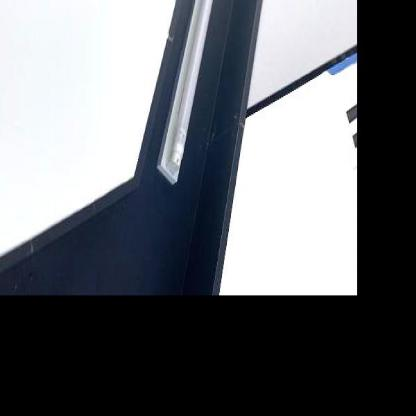light_off: (152, 0, 242, 197)
